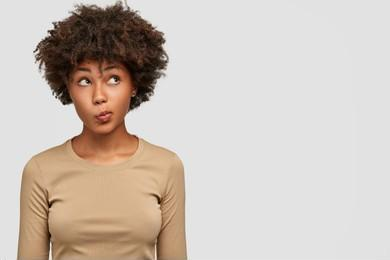face: (68, 55, 134, 135)
